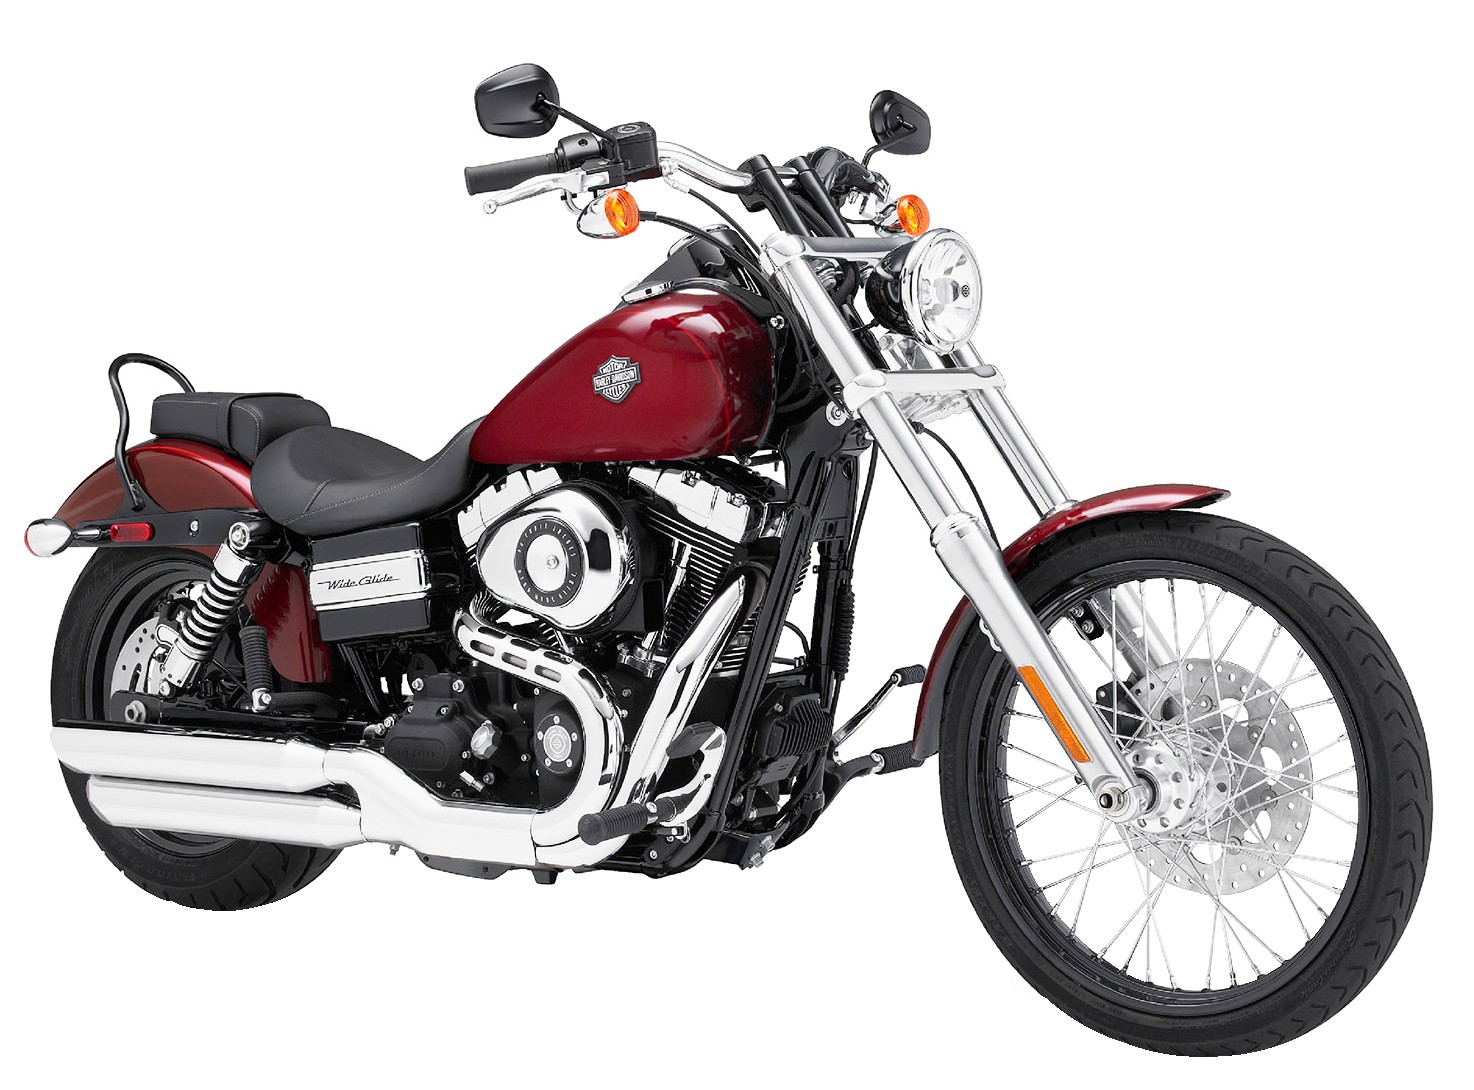motorcycle: (64, 123, 1434, 1061)
